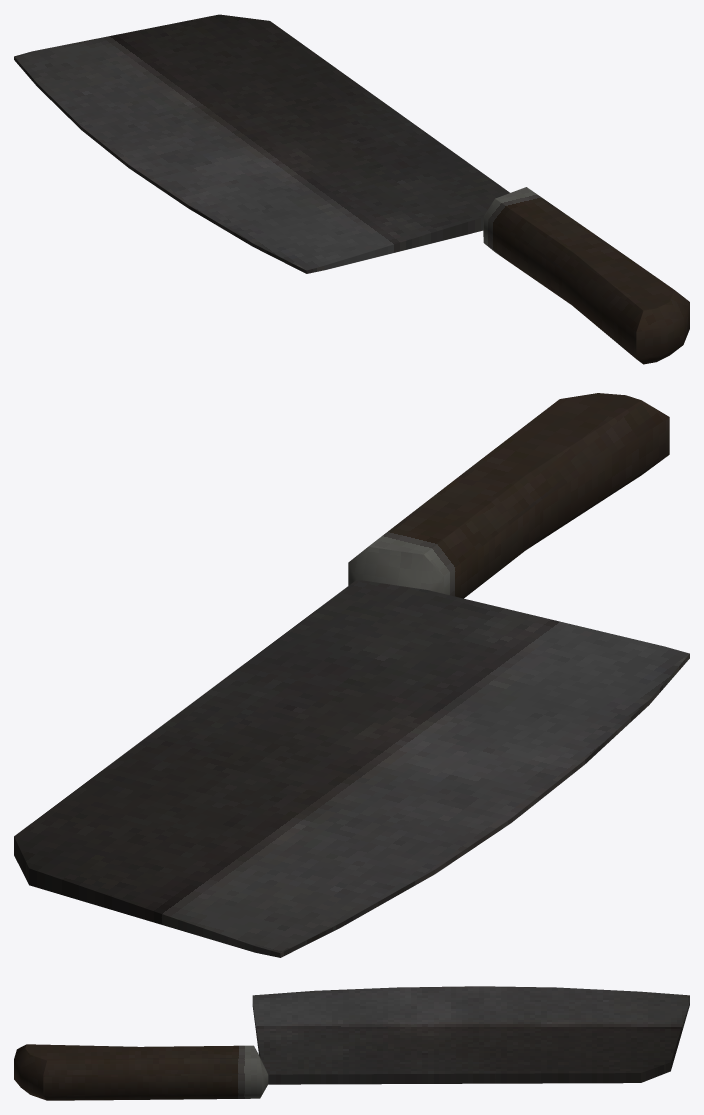
The model's file is butcher_knife_mp_1.glb.
3 views of the same model, one above another, from view 1: azimuth 30°, elevation 25°; view 2: azimuth 150°, elevation 25°; view 3: azimuth 270°, elevation 25° (orthographic). The views are drawn at different scales.
Parts seen in each view (by area): view 1: butcher_knife_mp_1; view 2: butcher_knife_mp_1; view 3: butcher_knife_mp_1.
Boxes of the visible parts, x1=… form: butcher_knife_mp_1: x1=14, y1=14, x2=689, y2=364; butcher_knife_mp_1: x1=14, y1=393, x2=689, y2=957; butcher_knife_mp_1: x1=14, y1=986, x2=689, y2=1100.
Size of the model in its own units: 0.1746 by 0.0334 by 0.5095.
Materials: 1 (1 with a texture image).
